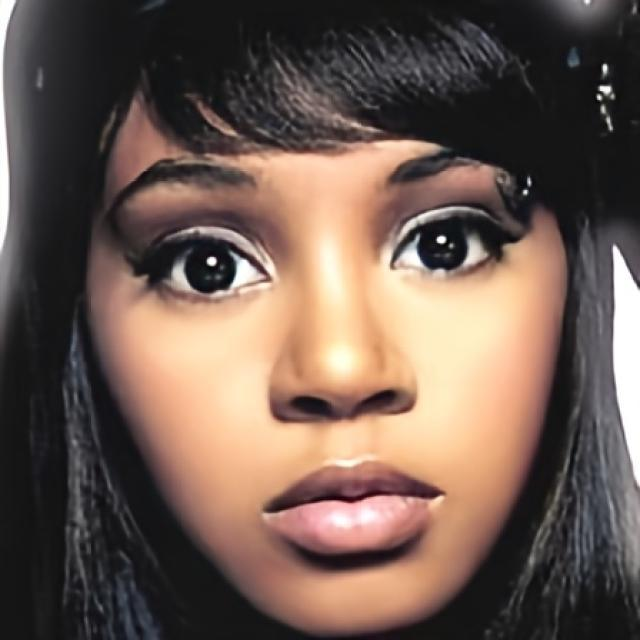surprise: (84, 0, 570, 640)
